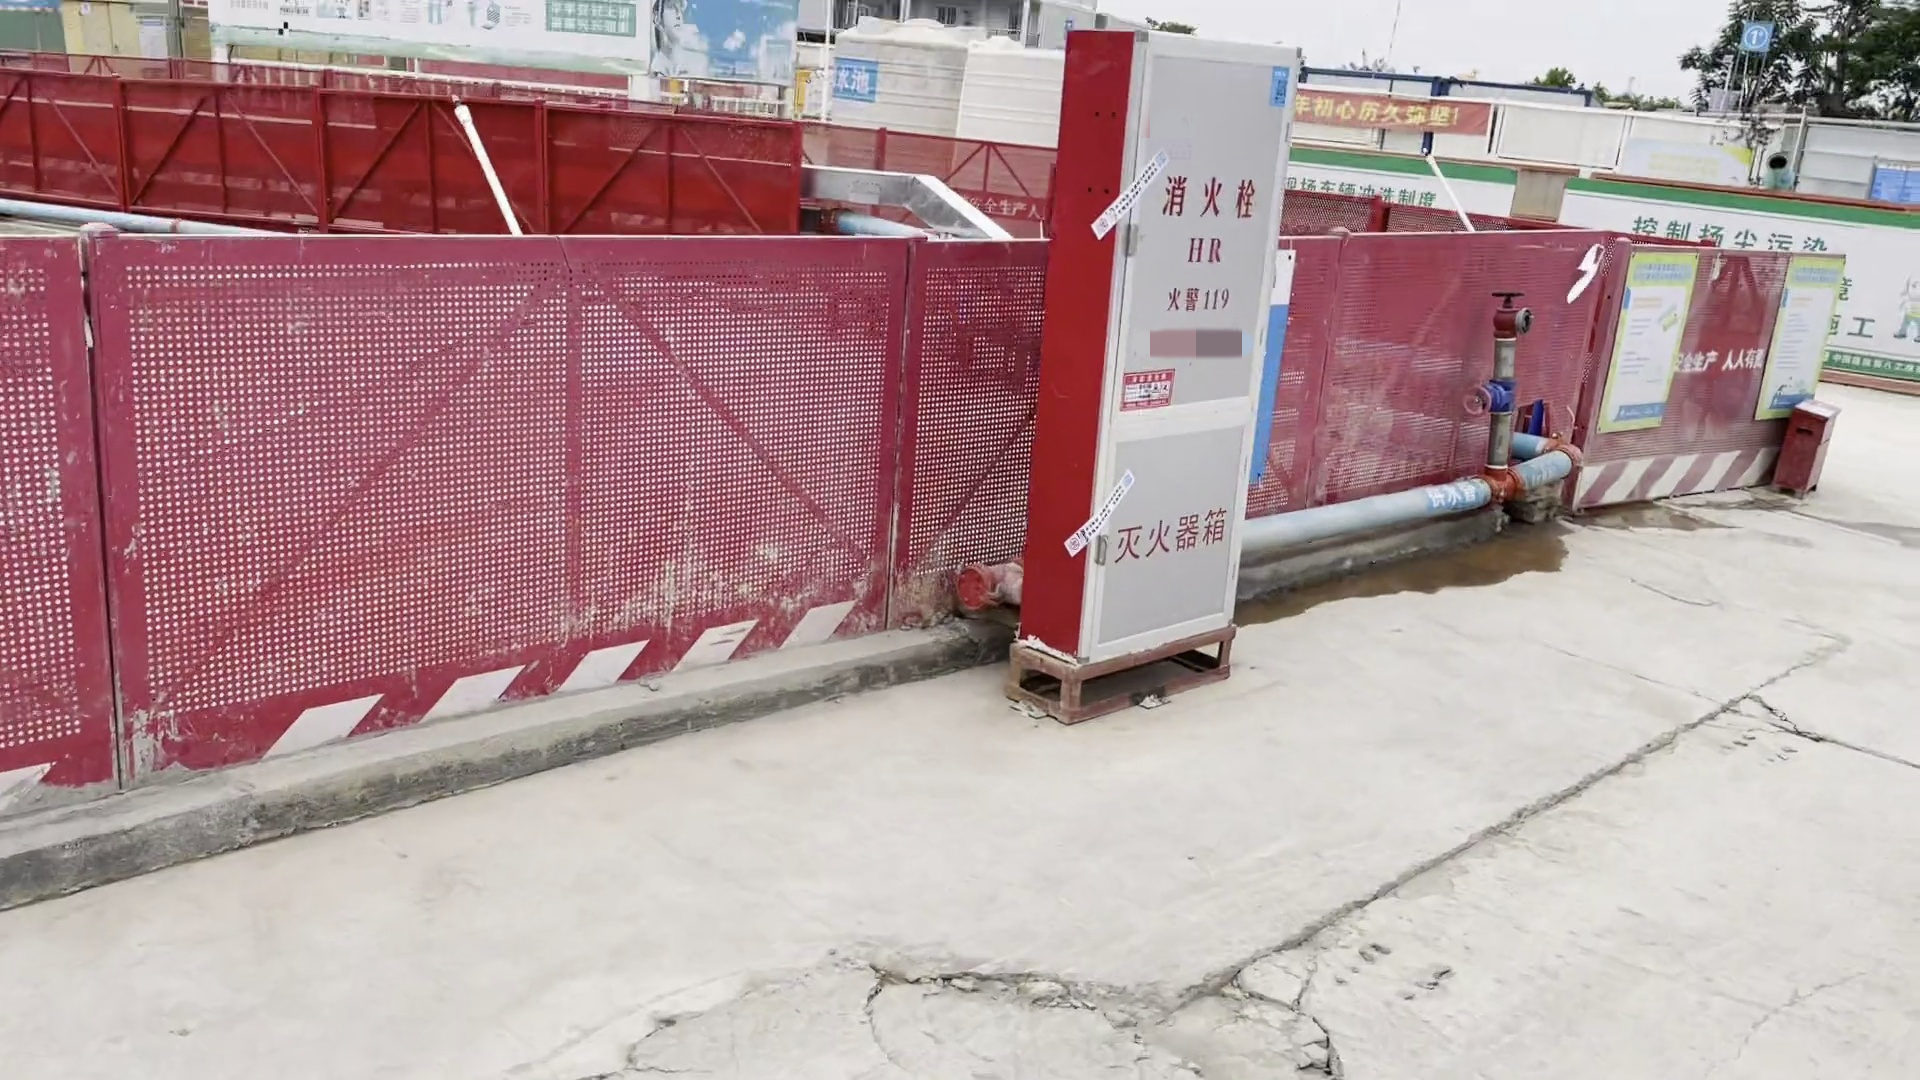fence: (8, 208, 1610, 729), (11, 75, 829, 253)
slogan: (1295, 80, 1486, 135)
